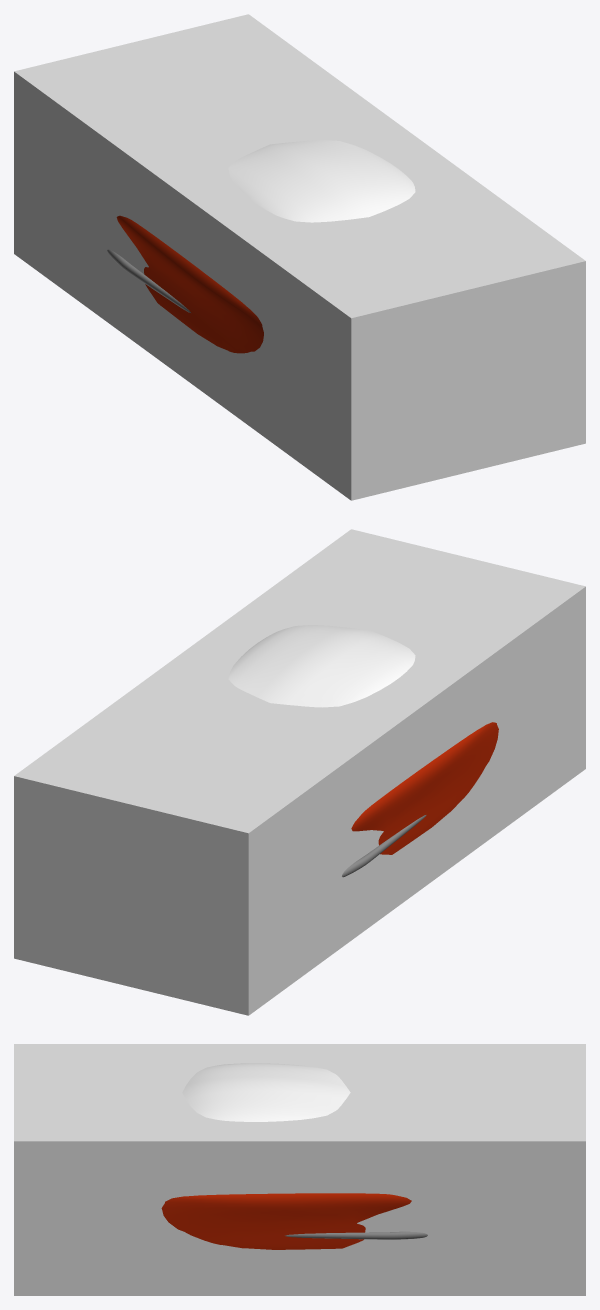
3 renders of one model, top to bottom at view 1: azimuth 30°, elevation 25°; view 2: azimuth 150°, elevation 25°; view 3: azimuth 270°, elevation 25°, orthographic. The views are drawn at different scales.
Visible parts, largest first — view 1: car_0001_box, car_0001_mesh; view 2: car_0001_box, car_0001_mesh; view 3: car_0001_box, car_0001_mesh.
Part boxes in pixels (box(x1,y1,x2,y2)): car_0001_box: box(14, 14, 585, 500); car_0001_mesh: box(107, 140, 415, 353); car_0001_box: box(14, 529, 585, 1015); car_0001_mesh: box(228, 625, 498, 877); car_0001_box: box(14, 1044, 585, 1295); car_0001_mesh: box(161, 1063, 427, 1249).
Size of the model in its own units: 2.79 by 2.13 by 6.7.
